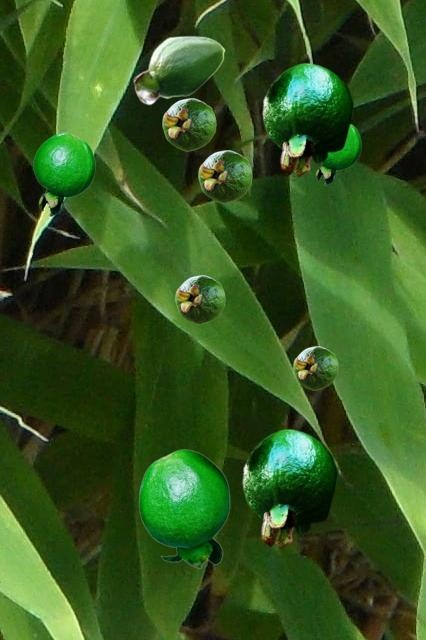guava: (242, 428, 337, 548), (138, 449, 229, 567), (262, 62, 353, 176), (133, 35, 224, 104), (33, 132, 94, 215), (162, 98, 215, 150), (198, 150, 251, 202), (315, 124, 360, 184), (175, 275, 224, 323), (293, 346, 337, 389)
